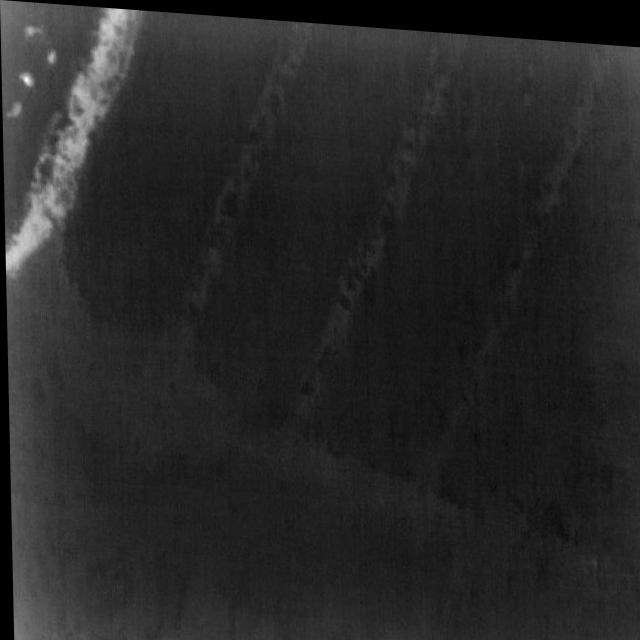deer: (22, 24, 46, 41), (5, 99, 23, 119), (17, 70, 35, 88), (46, 46, 58, 67)
